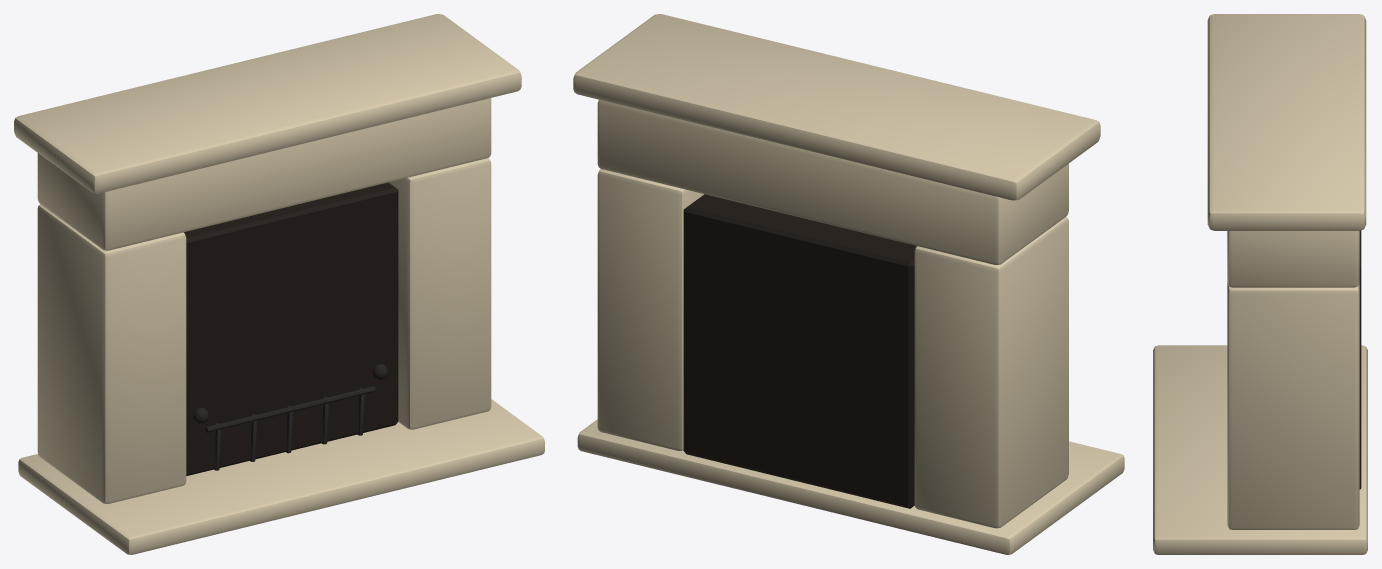
File: PR_Fireplace.fbx
3 renders of one model, left to right at view 1: azimuth 30°, elevation 25°; view 2: azimuth 150°, elevation 25°; view 3: azimuth 270°, elevation 25°, orthographic. The views are drawn at different scales.
Visible parts, largest first — view 1: PR_Fireplace_Stone, PR_Fireplace_Soot, PR_Fireplace_Iron; view 2: PR_Fireplace_Stone, PR_Fireplace_Soot; view 3: PR_Fireplace_Stone, PR_Fireplace_Soot.
Part boxes in pixels (x1,y1,x2,y2): PR_Fireplace_Stone: (14, 14, 544, 554); PR_Fireplace_Soot: (184, 182, 398, 475); PR_Fireplace_Iron: (193, 364, 388, 470); PR_Fireplace_Stone: (573, 14, 1124, 554); PR_Fireplace_Soot: (683, 194, 916, 508); PR_Fireplace_Stone: (1153, 14, 1367, 554); PR_Fireplace_Soot: (1359, 230, 1361, 489).
Bounding box in the file's own units: 1.44 × 1.16 × 0.65.
